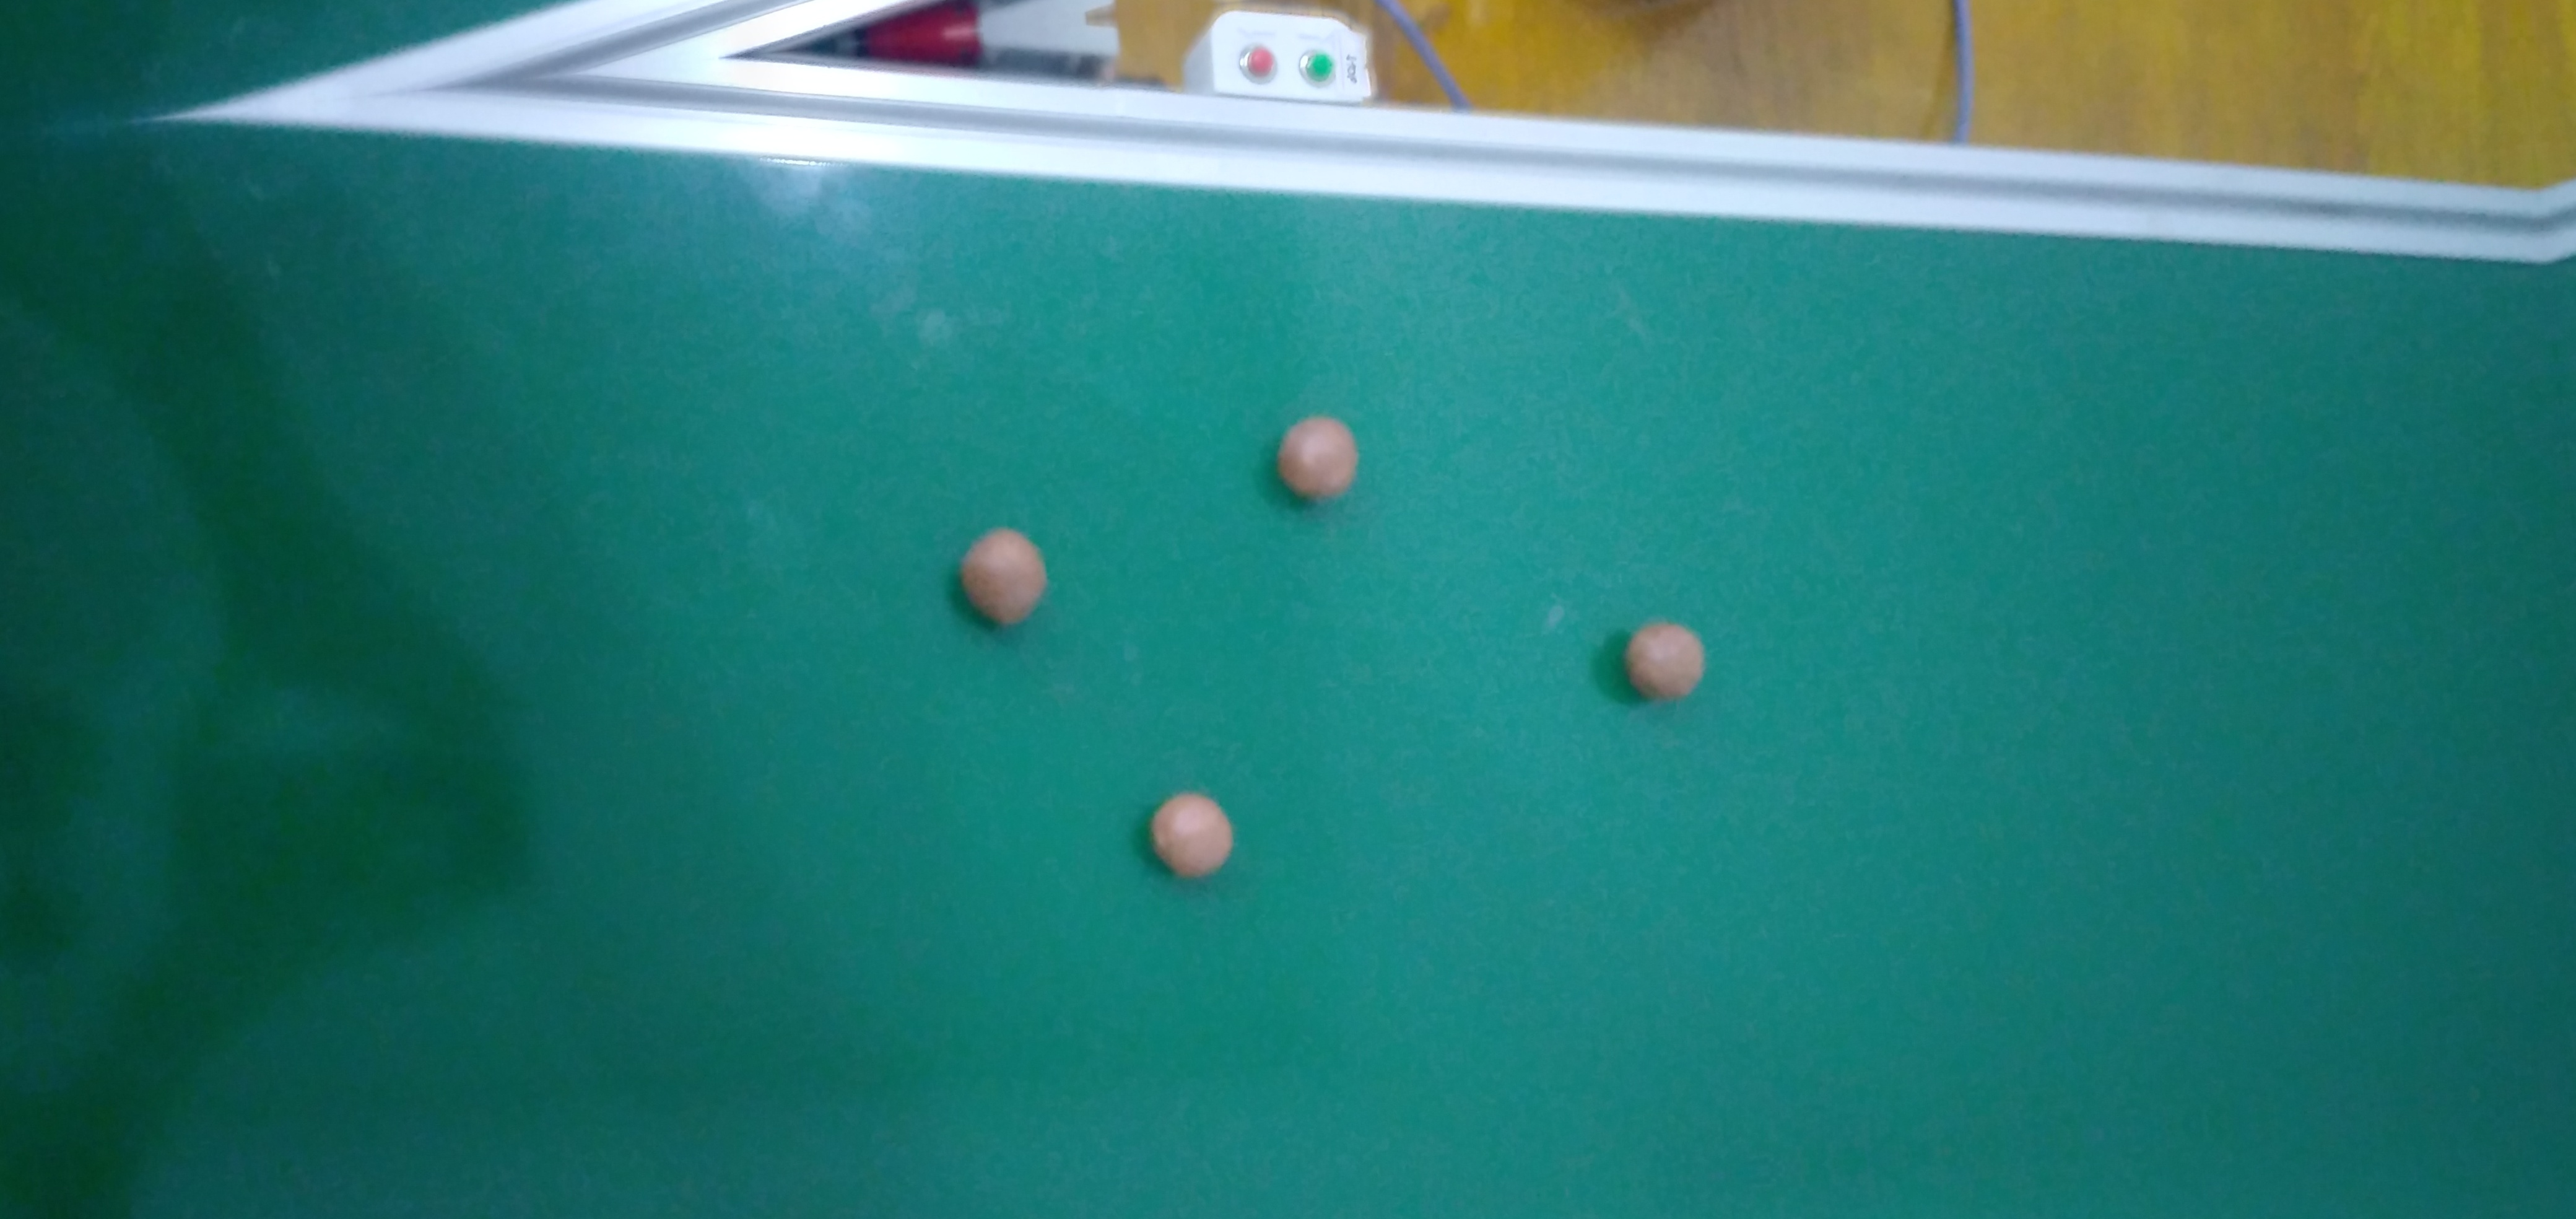mac: (958, 526, 1051, 632), (1147, 789, 1237, 882), (1273, 414, 1359, 504), (1623, 619, 1707, 706)
